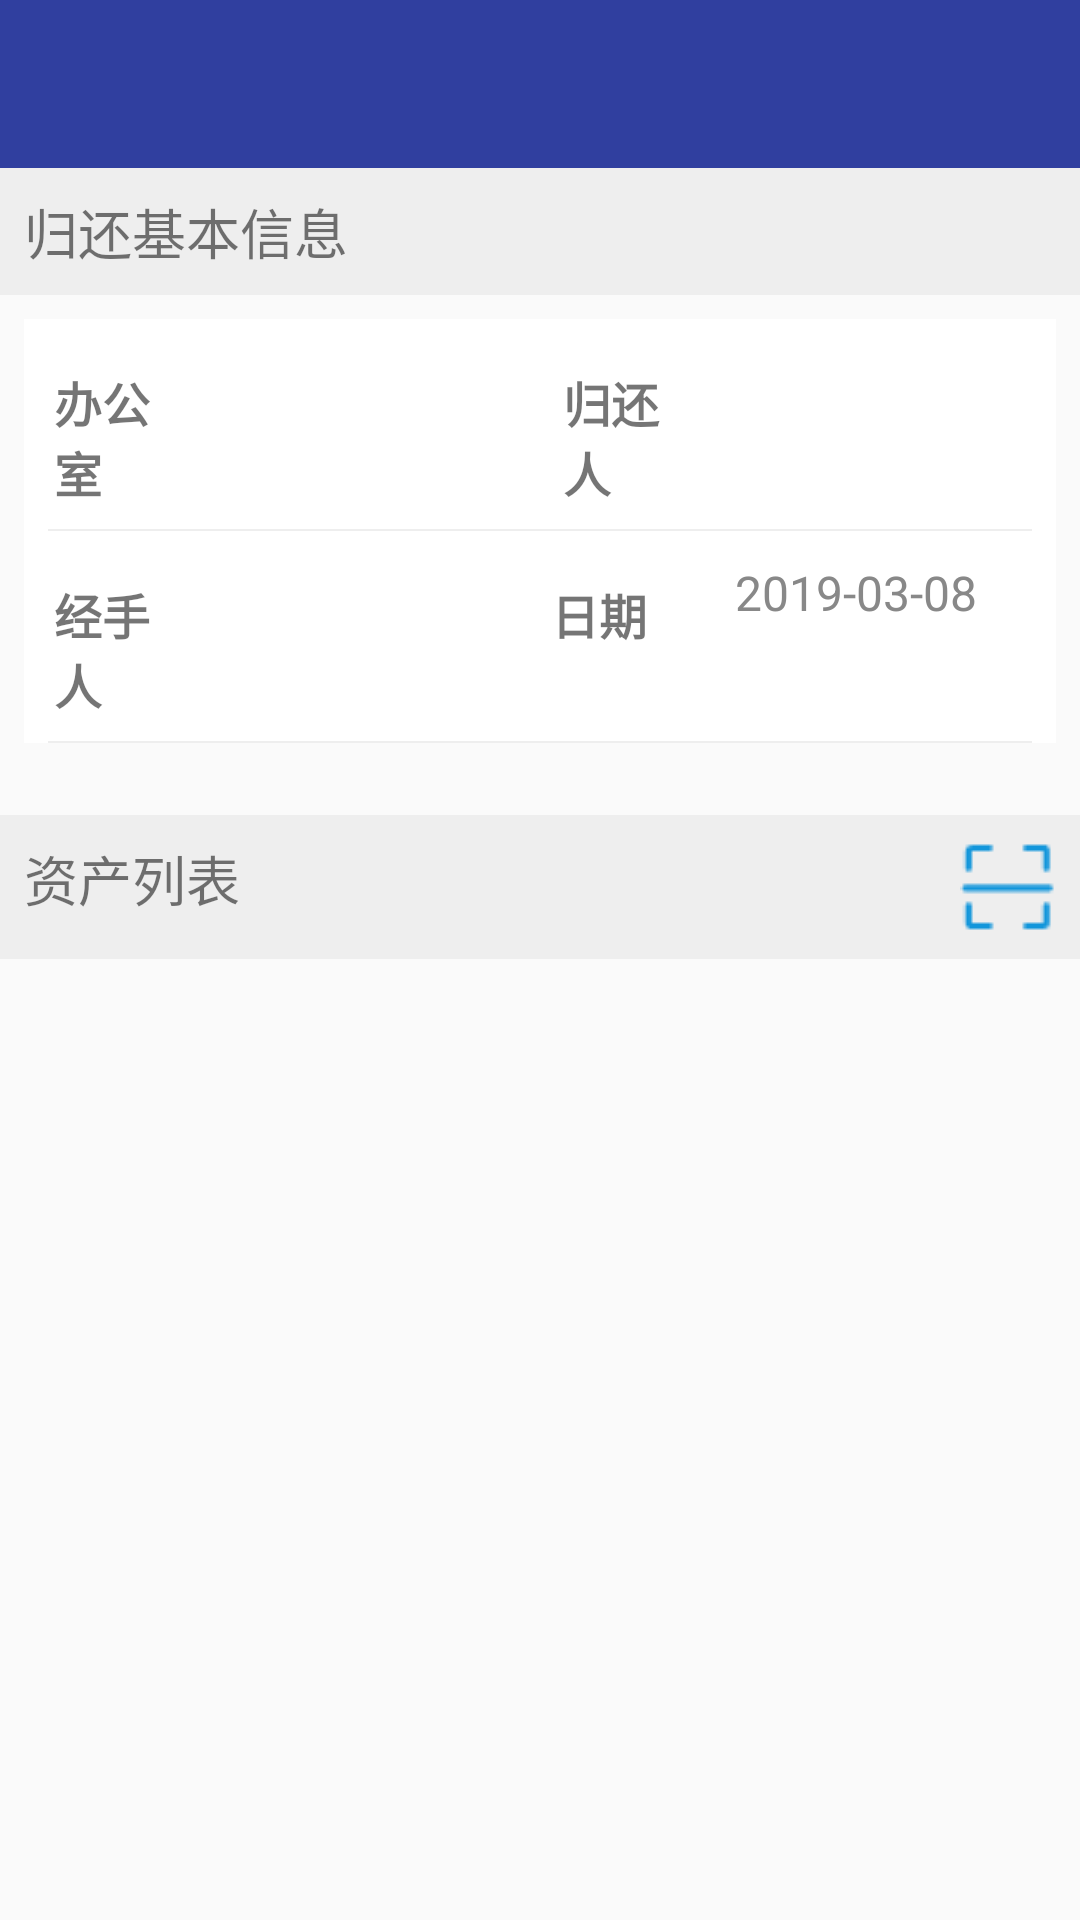

Icons on this 1080x1920 Android screen, each with its box as {"x1": x1, "y1": y1, "x2": x2, "y2": y2}:
开始扫描: {"x1": 960, "y1": 844, "x2": 1054, "y2": 930}
